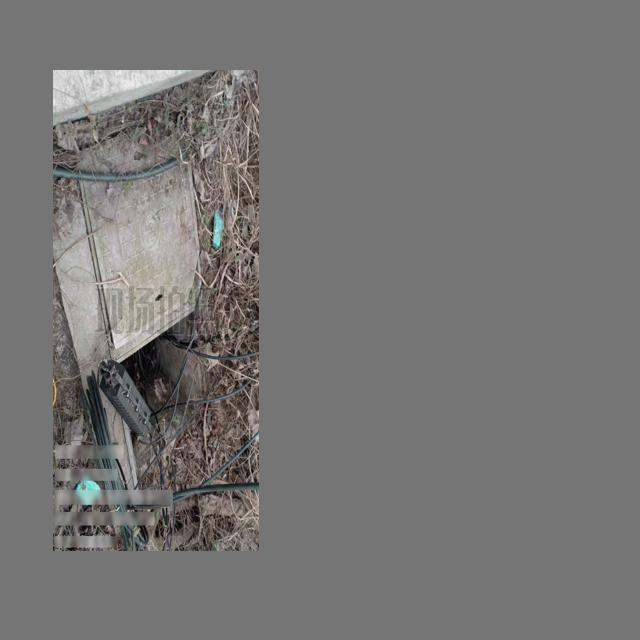lose: (77, 122, 211, 502)
